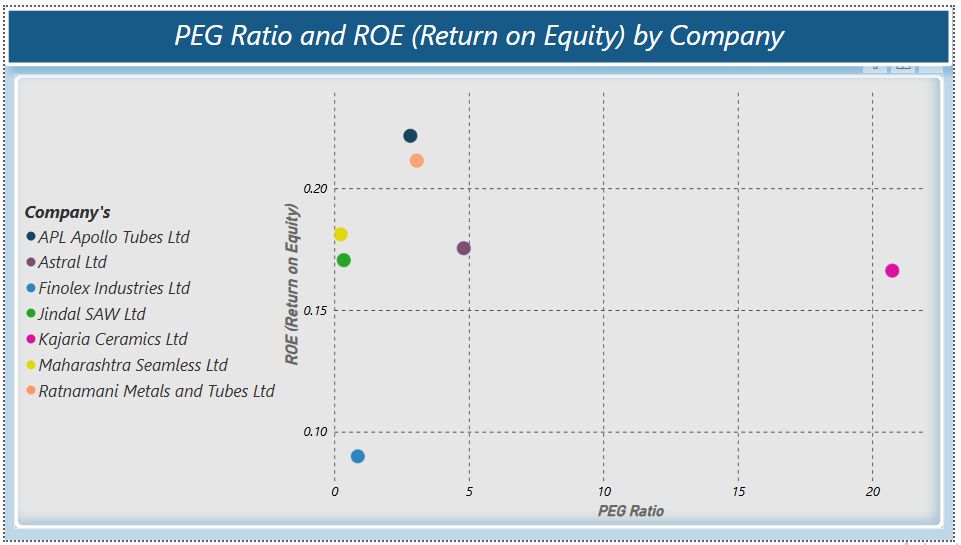

Layout of this report page (visuals, bound fields, positions):
{"tool":"powerbi","page":{"name":" ROE vs PEG Ratio","canvas":[1280,720],"ordinal":3},"visuals":[{"type":"scatterChart","fields":{"X":["Sum(Sheet2.PEG Ratio)"],"Y":["Sum(Sheet2.ROE (Return on Equity))"],"Category":["Sheet2.Company"],"Series":["Sheet2.Company"]},"box":[12.4,90.8,1256.6,615.2],"z":0},{"type":"textbox","box":[0,0,1280,79.8],"z":1000}]}

Visuals, with their boxes in screenshot pixels (x1, y1, x2, y2), scaled from the page's 1280x720 canvas onto the 961x545 screenshot:
scatterChart - Sum(Sheet2.PEG Ratio) x Sum(Sheet2.ROE (Return on Equity)): detection(9, 69, 953, 534)
textbox: detection(0, 0, 960, 60)
